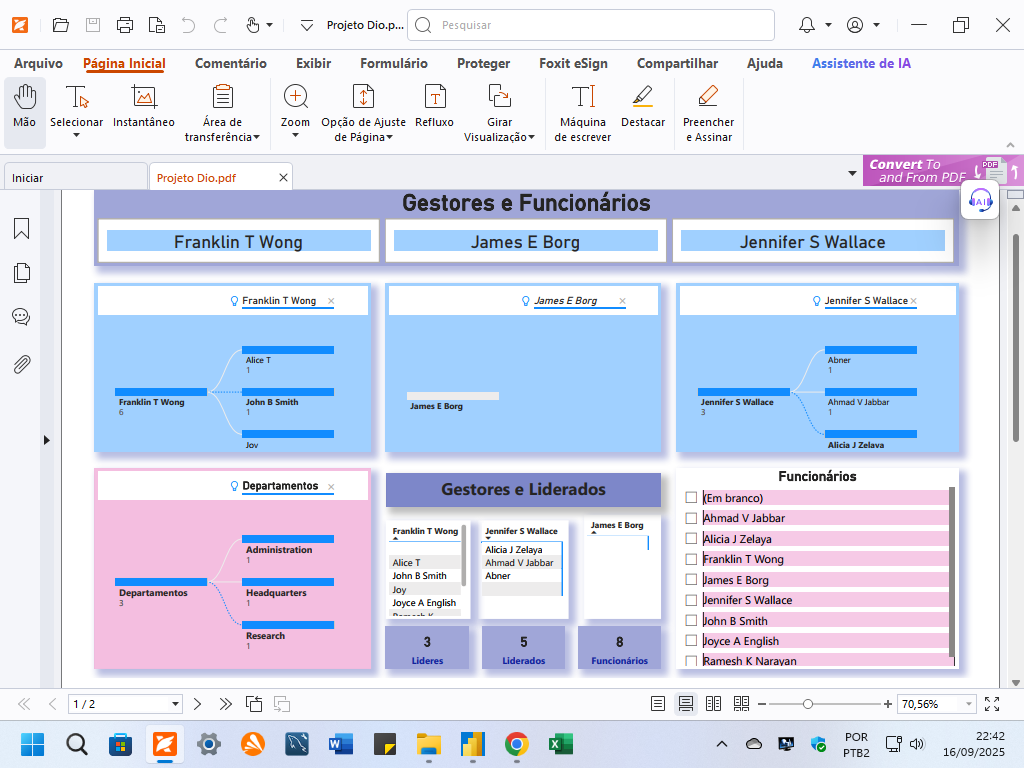

Layout of this report page (visuals, bound fields, positions):
{"tool":"powerbi","page":{"name":"Gestores e Funcionários","canvas":[1280,720],"ordinal":0},"visuals":[{"type":"decompositionTreeVisual","fields":{"Analyze":["CountNonNull(Departamento.Departamento)"],"ExplainBy":["Departamento.Departamento"]},"box":[21.8,422.3,391.8,285.2],"z":0},{"type":"decompositionTreeVisual","fields":{"ExplainBy":["Departamento.Franklin T Wong"],"Analyze":["CountNonNull(Departamento.Franklin T Wong)"]},"box":[21.8,158.9,391.8,239.5],"z":1000},{"type":"decompositionTreeVisual","fields":{"Analyze":["CountNonNull(Departamento.James E Borg)"],"ExplainBy":["Departamento.James E Borg"]},"box":[435.4,158.9,389.7,239.5],"z":2000},{"type":"decompositionTreeVisual","fields":{"Analyze":["CountNonNull(Departamento.Jennifer S Wallace)"],"ExplainBy":["Departamento.Jennifer S Wallace"]},"box":[846.8,158.9,400.5,239.5],"z":3000},{"type":"advancedSlicerVisual","title":"Gestores e Funcionários","fields":{"Values":["Departamento.Lider"]},"box":[21.8,26.1,1225.6,108.8],"z":4000},{"type":"pivotTable","fields":{"Rows":["Departamento.Franklin T Wong"]},"box":[435.4,496.3,119.7,139.3],"z":5000},{"type":"pivotTable","fields":{"Rows":["Departamento.Jennifer S Wallace"]},"box":[566,496.3,128.4,139.3],"z":6000},{"type":"pivotTable","fields":{"Rows":["Departamento.James E Borg"]},"box":[716.2,487.6,108.8,148],"z":7000},{"type":"slicer","title":"Funcionários","fields":{"Values":["Departamento.Funcionário"]},"box":[846.8,422.3,400.5,285.2],"z":8000},{"type":"card","fields":{"Values":["CountNonNull(Departamento.Lider)"]},"box":[435.4,646.5,117.6,61],"z":9000},{"type":"card","fields":{"Values":["CountNonNull(Departamento.Liderados)"]},"box":[572.2,646.8,117.1,60],"z":10000},{"type":"card","fields":{"Values":["CountNonNull(Dependente.Funcionário)"]},"box":[708.3,646.8,117.1,60],"z":11000},{"type":"textbox","box":[436.1,428.8,389.3,48.3],"z":12000}]}

Visuals, with their boxes on the page's 1280x720 design canvas (x1, y1, x2, y2). These are canvas units, not pixel positions in the 1024x768 screenshot, which may show the page scaled, cropped or inside an application window:
decompositionTreeVisual - CountNonNull(Departamento.Departamento) x Departamento.Departamento: [22,422,414,708]
decompositionTreeVisual - Departamento.Franklin T Wong x CountNonNull(Departamento.Franklin T Wong): [22,159,414,398]
decompositionTreeVisual - CountNonNull(Departamento.James E Borg) x Departamento.James E Borg: [435,159,825,398]
decompositionTreeVisual - CountNonNull(Departamento.Jennifer S Wallace) x Departamento.Jennifer S Wallace: [847,159,1247,398]
"Gestores e Funcionários" advancedSlicerVisual: [22,26,1247,135]
pivotTable - Departamento.Franklin T Wong: [435,496,555,636]
pivotTable - Departamento.Jennifer S Wallace: [566,496,694,636]
pivotTable - Departamento.James E Borg: [716,488,825,636]
"Funcionários" slicer: [847,422,1247,708]
card - CountNonNull(Departamento.Lider): [435,646,553,708]
card - CountNonNull(Departamento.Liderados): [572,647,689,707]
card - CountNonNull(Dependente.Funcionário): [708,647,825,707]
textbox: [436,429,825,477]
